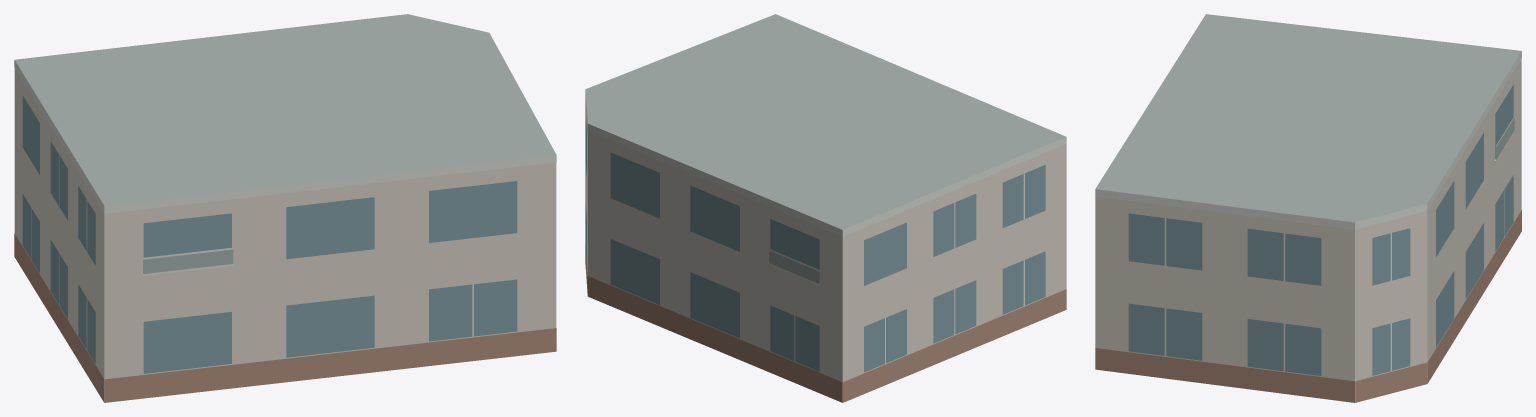
Rendered from survey-upis-32782166.glb.
3 renders of one model, left to right at view 1: azimuth 30°, elevation 25°; view 2: azimuth 150°, elevation 25°; view 3: azimuth 270°, elevation 25°, orthographic. The views are drawn at different scales.
Parts seen in each view (by area): view 1: survey-upis-32782166.tmp; view 2: survey-upis-32782166.tmp; view 3: survey-upis-32782166.tmp.
Part boxes in pixels (box(x1,y1,x2,y2)): survey-upis-32782166.tmp: box(14, 14, 556, 402); survey-upis-32782166.tmp: box(585, 14, 1066, 402); survey-upis-32782166.tmp: box(1095, 14, 1521, 402).
Bounding box in the file's own units: 15.13 × 6.1 × 13.09.
